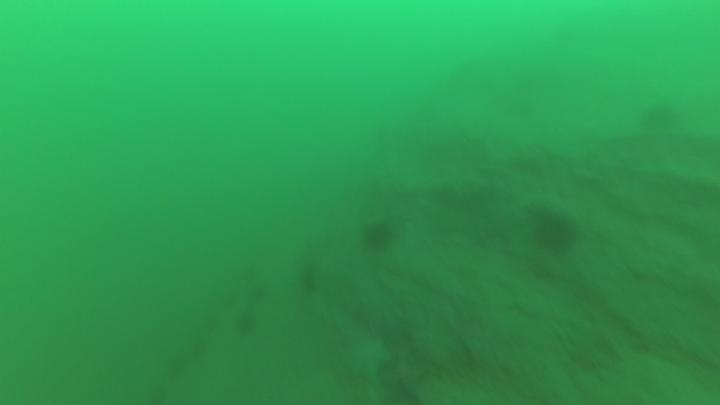echinus: (529, 209, 580, 257), (637, 99, 683, 136), (358, 217, 398, 255), (294, 259, 323, 300), (232, 309, 260, 340)
starfish: (332, 325, 395, 383)
